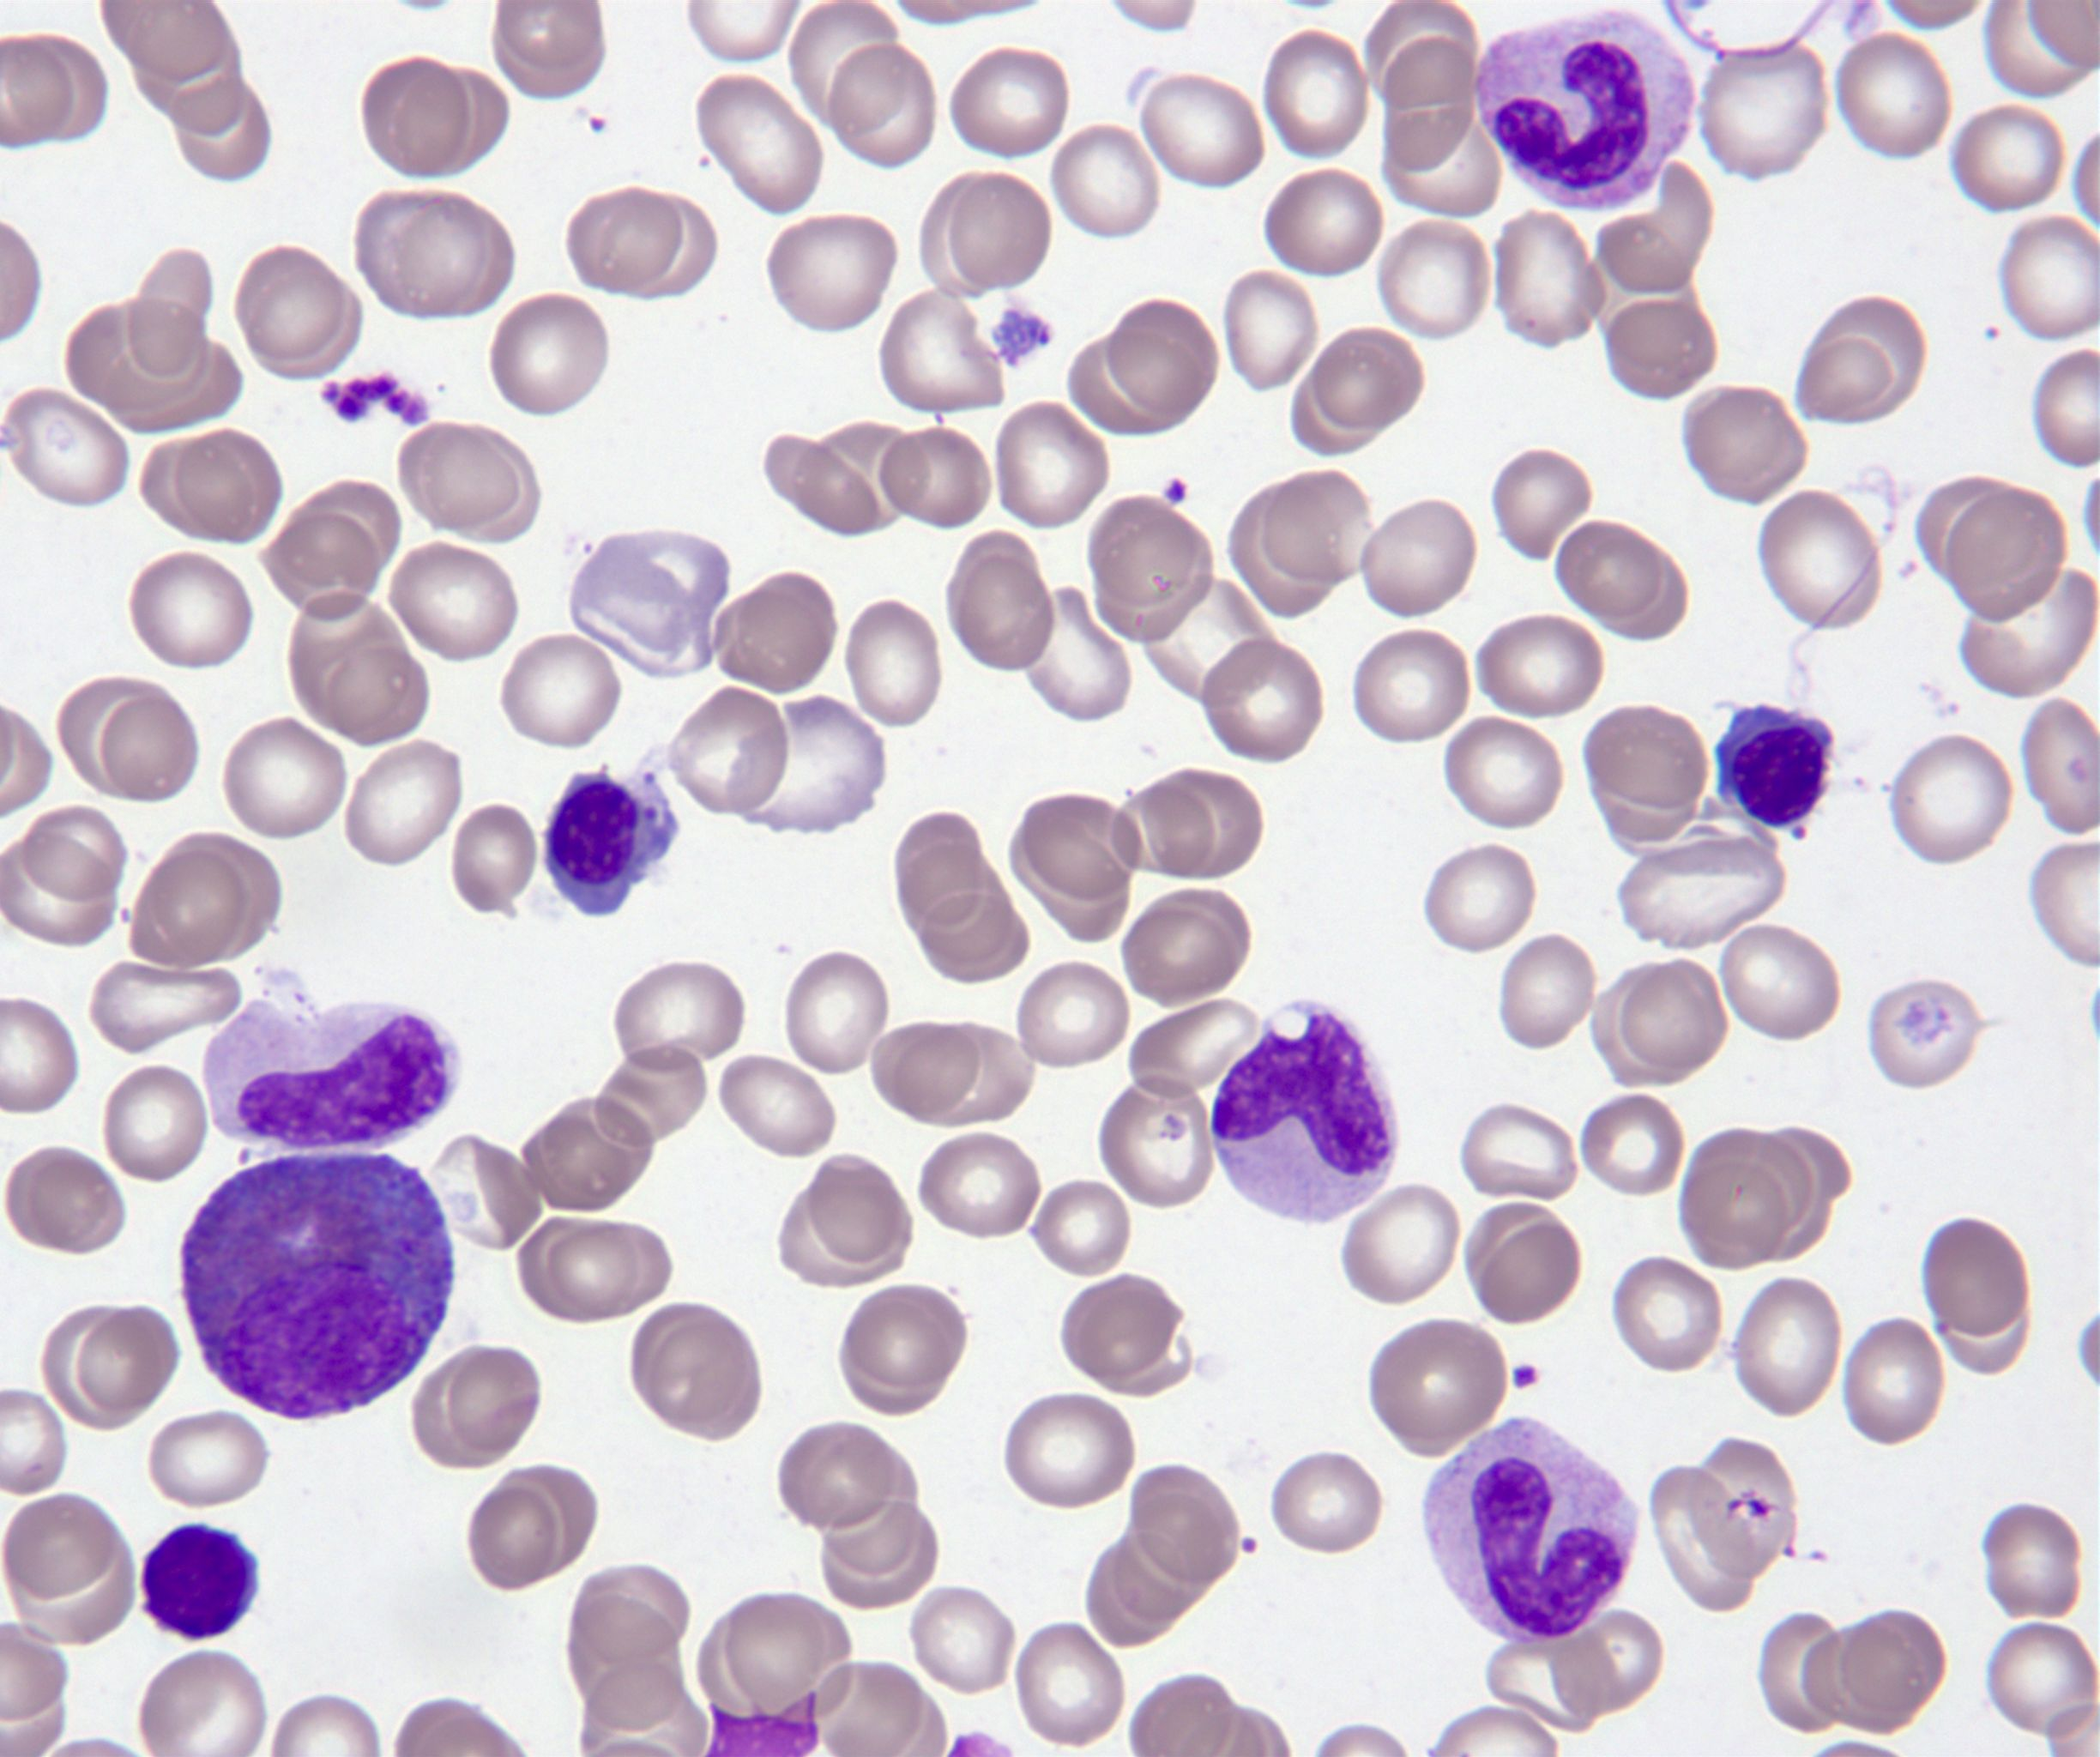24: (544, 773, 680, 918), (1716, 705, 1835, 827)
32: (136, 1525, 258, 1642)
4: (1214, 1000, 1395, 1221), (204, 1000, 462, 1150)
5: (1423, 1417, 1638, 1647), (1477, 10, 1695, 209)
E1: (180, 1160, 455, 1417)
